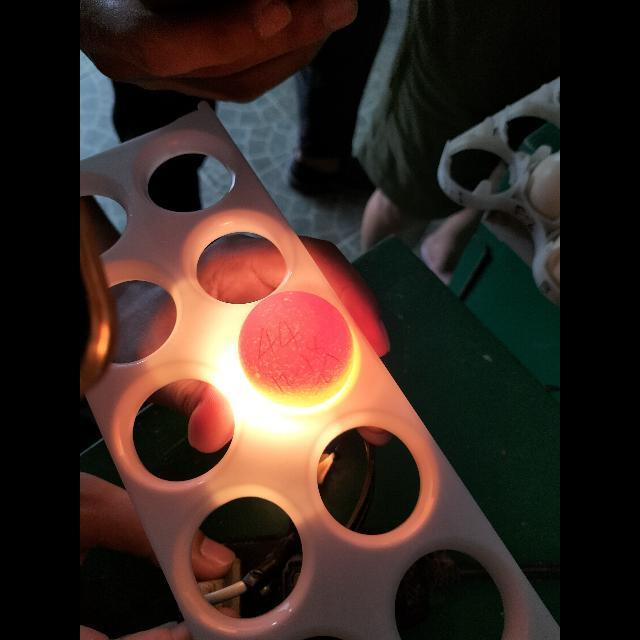Infertile: (238, 286, 360, 408)
